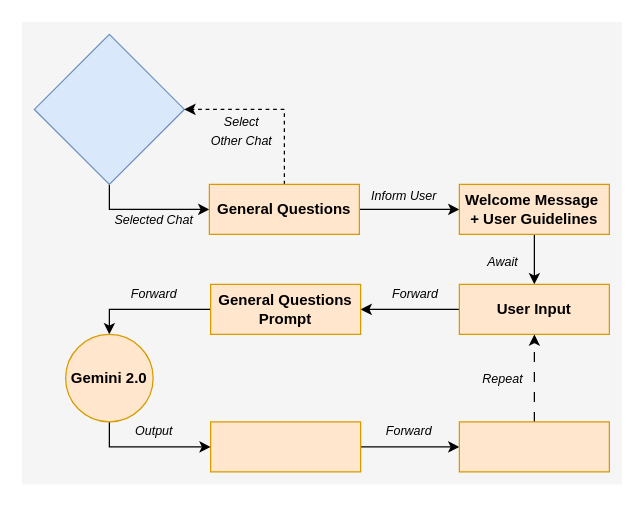
Image size: 643x505. Some labels were removed from this diagram. The shapes that lost their labels are listed below. From the top down, each one's centre as x and y in pixels, then its label:
point (108, 108): Chatbot Selector
point (285, 446): LLM Response
point (533, 446): Display Output
